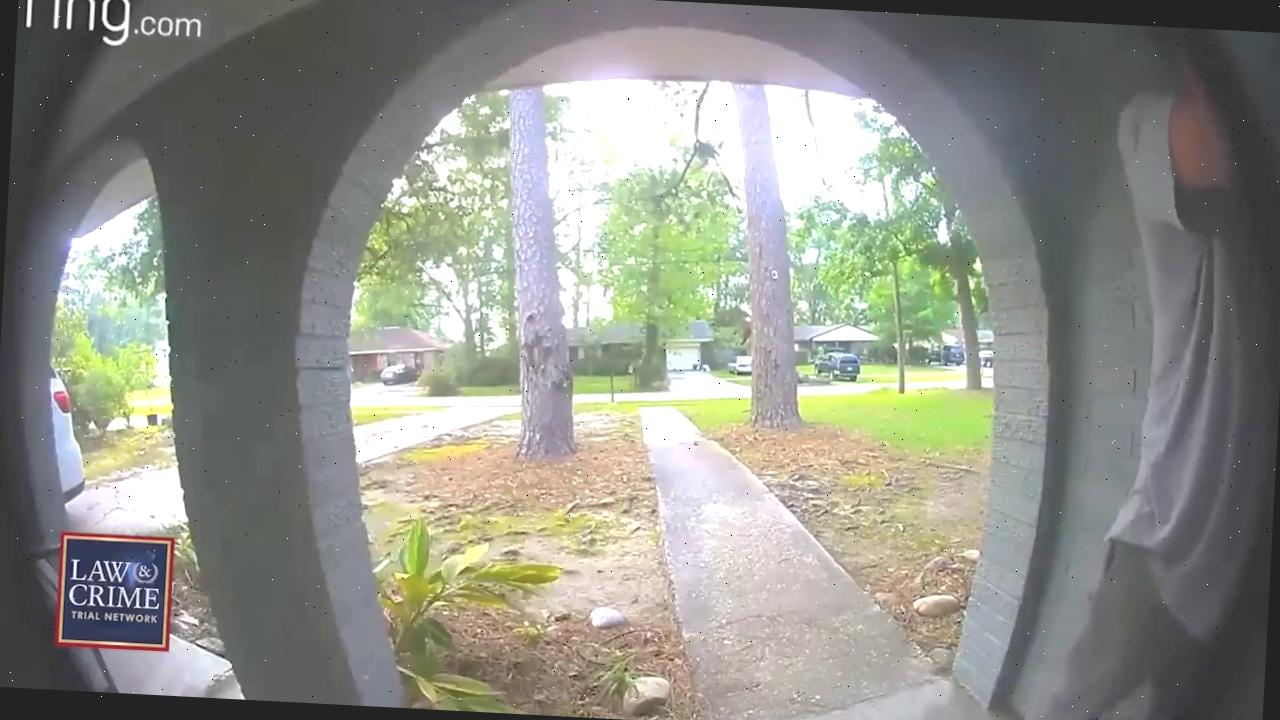suspicion: (991, 20, 1280, 720)
